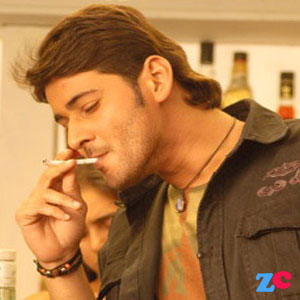cigarette: (39, 157, 100, 167)
